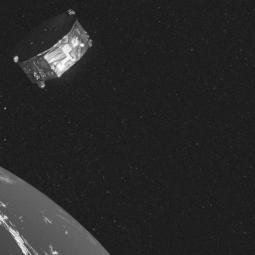lisa_pathfinder: (7, 3, 104, 97)
